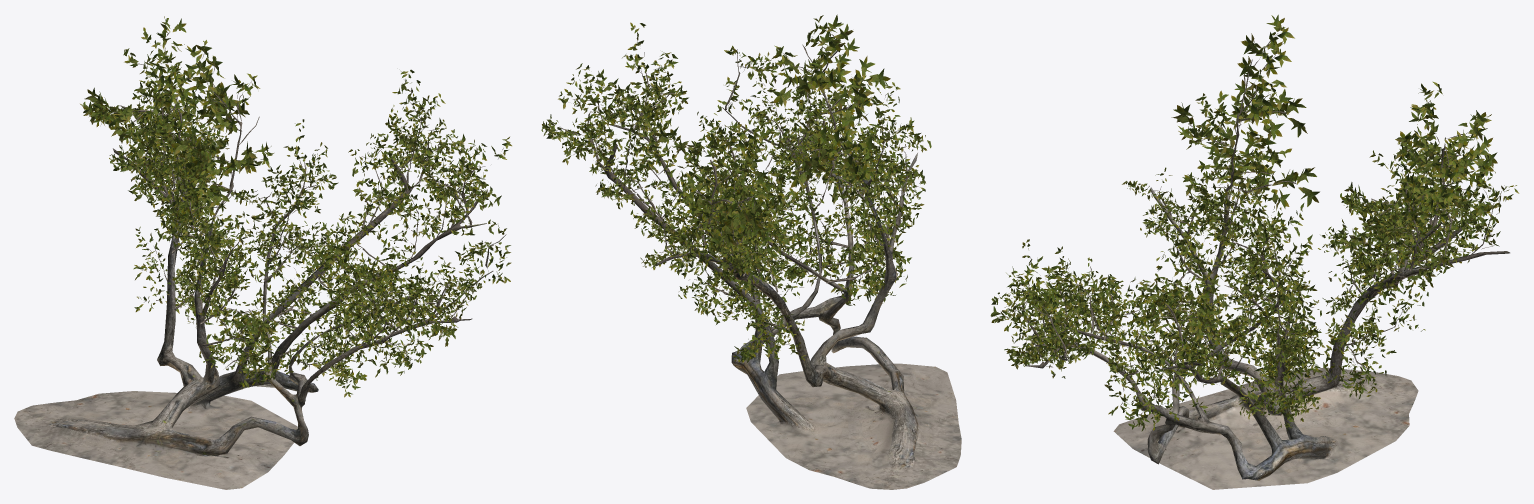
3 views of the same model, side by side, from view 1: azimuth 30°, elevation 25°; view 2: azimuth 150°, elevation 25°; view 3: azimuth 270°, elevation 25° (orthographic). The views are drawn at different scales.
Visible parts, largest first — view 1: island_tree_03_lod0; view 2: island_tree_03_lod0; view 3: island_tree_03_lod0.
Boxes of the visible parts, x1,y1,x2,y2 form: island_tree_03_lod0: [14, 16, 511, 489]; island_tree_03_lod0: [541, 14, 961, 489]; island_tree_03_lod0: [990, 14, 1519, 489].
Bounding box in the file's own units: 2.97 × 2.63 × 2.92.
Materials: 3 (3 with a texture image).
